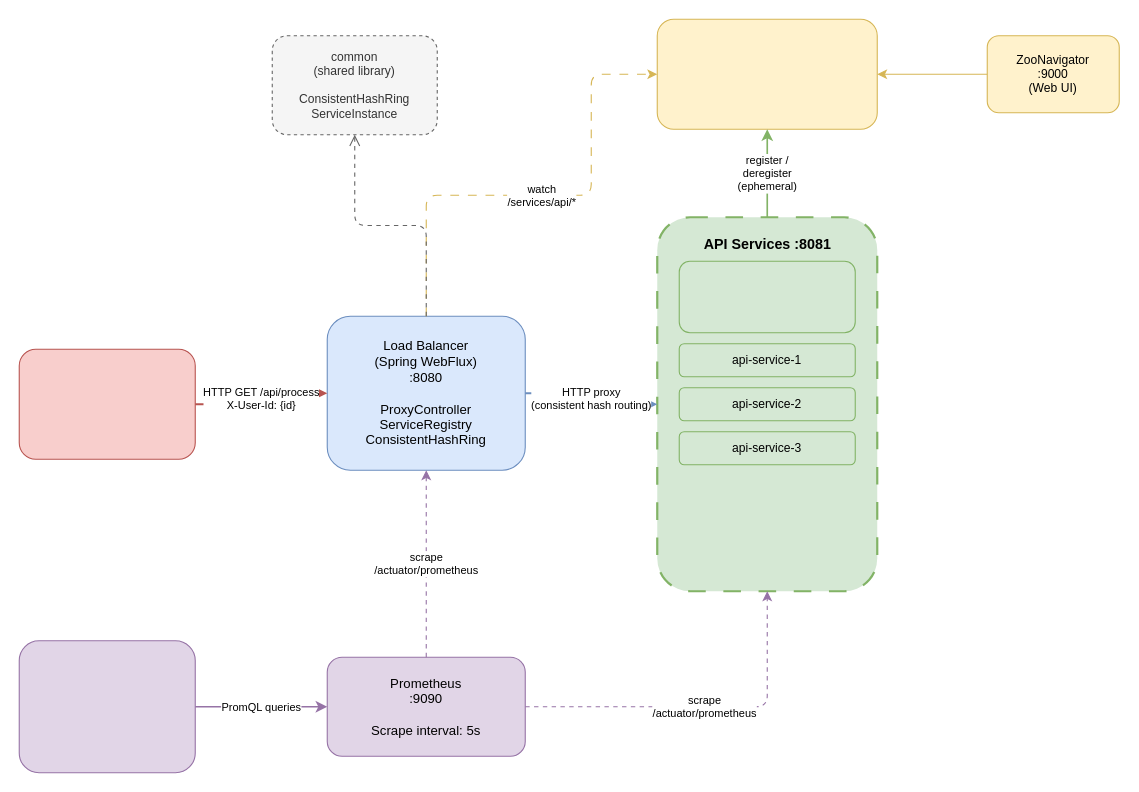
The diagram is 1139 pixels wide and 792 high, and some of its shapes have lost their labels. Here are the shapes that lost their labels. From the top down, the box of each, then its label:
(656, 18, 877, 129): ZooKeeper 3.9 :2181 Service Discovery /services/api/*
(678, 260, 855, 333): api-service-0 ApiController ProcessingService ZK Registration
(18, 348, 195, 459): Test Client (Spring Boot CLI) LoadGenerator 16 users, HTTP
(18, 640, 195, 773): Grafana :3000 Dashboards: Request Rate, Latency Distribution
